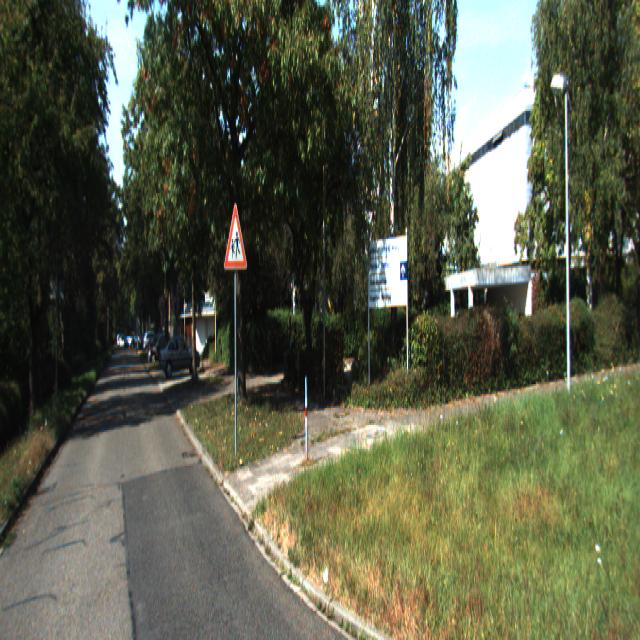Car: (158, 332, 199, 379)
DontCare: (116, 326, 168, 366)
